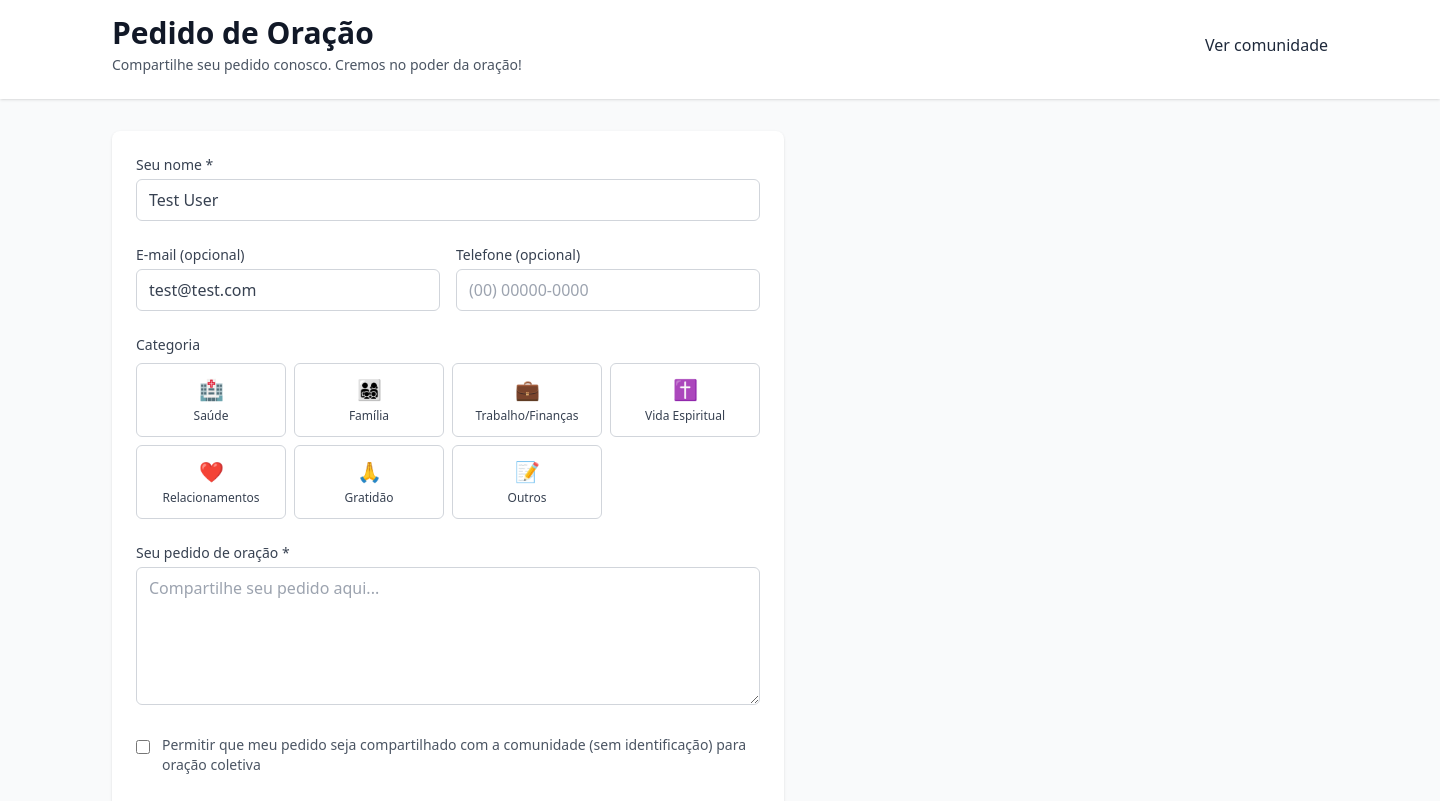
Test: PrayerPage › Form Validation › should show error when submitting without prayer request text
The width and height of the screenshot is (1440, 801).
// Nome/e-mail podem vir pré-preenchidos do usuário logado
Clear the field with placeholder "Como podemos te chamar?" below "Seu nome *" at (448, 200), box [136,179,760,221]
(page scrolled)
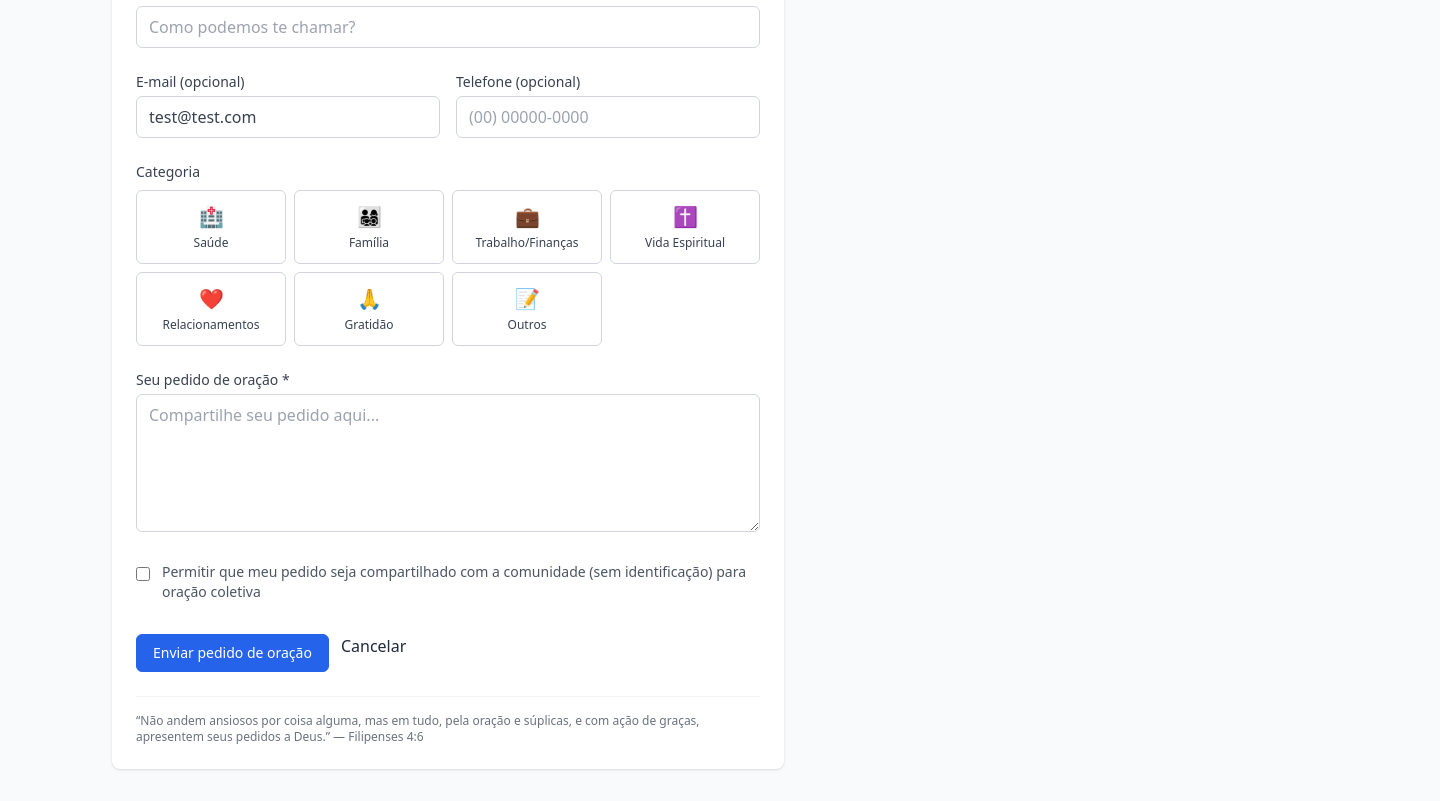
Click the button "Enviar pedido de oração" at (232, 653), box [136,634,329,672]
(page scrolled)
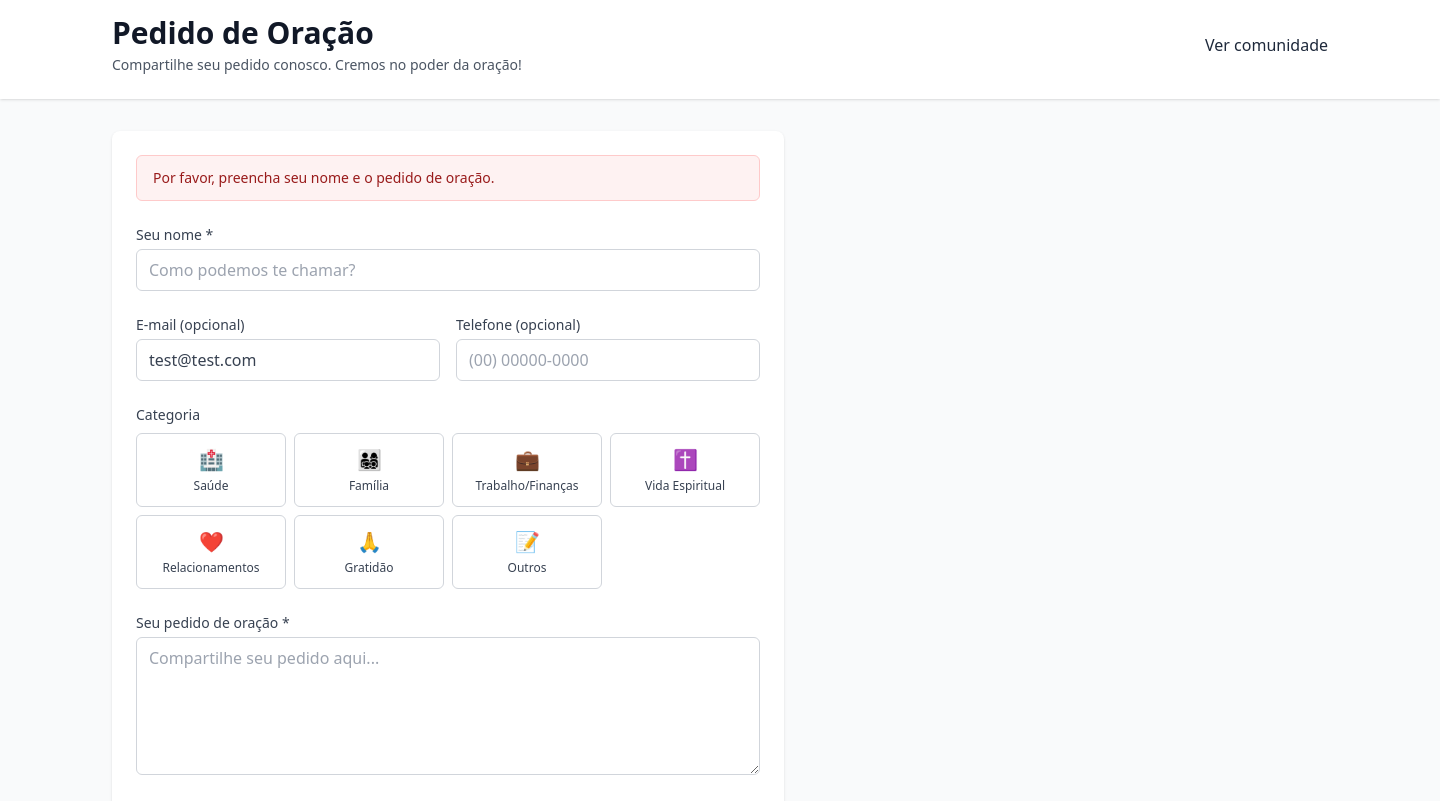
Expected: the text "Por favor, preencha seu nome e o pedido de oração." is shown, [136,155,760,201]
